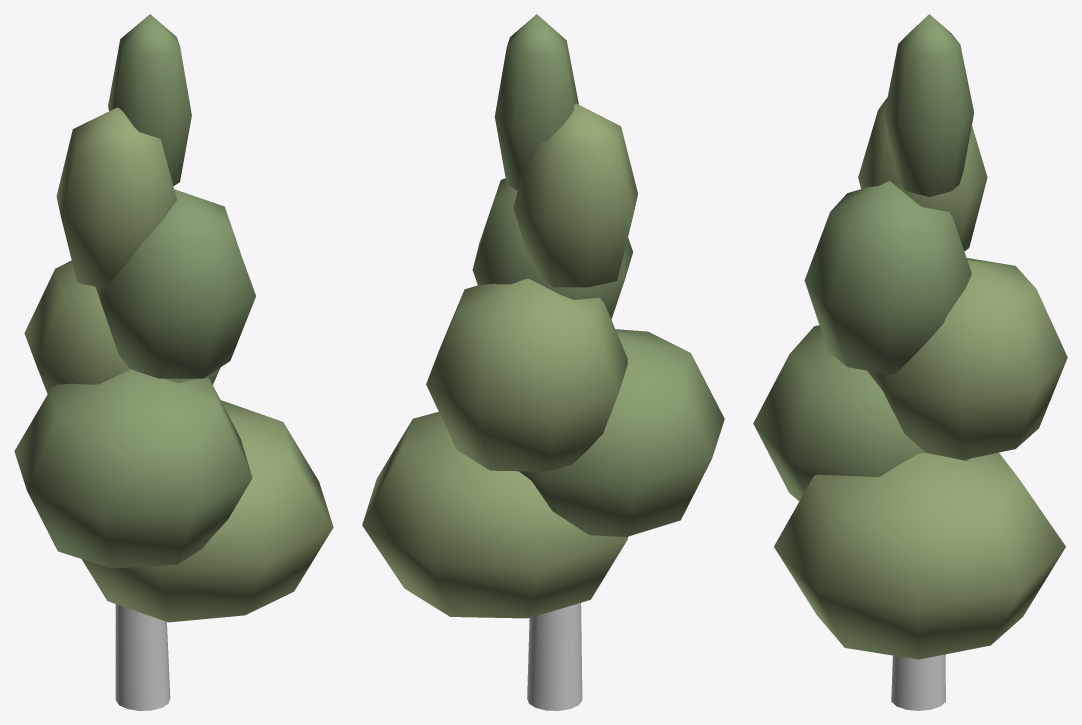
Rendered from pine_v1_near.gltf.
3 views of the same model, side by side, from view 1: azimuth 30°, elevation 25°; view 2: azimuth 150°, elevation 25°; view 3: azimuth 270°, elevation 25° (orthographic).
Visible parts, largest first — view 1: foliage, bark; view 2: foliage, bark; view 3: foliage, bark.
Part boxes in pixels (left/top/right/bottom): foliage: left=14, top=14, right=333, bottom=622; bark: left=115, top=604, right=170, bottom=710; foliage: left=362, top=14, right=724, bottom=618; bark: left=527, top=603, right=582, bottom=710; foliage: left=753, top=14, right=1067, bottom=659; bark: left=891, top=654, right=945, bottom=710.
Bounding box in the file's own units: 2.89 × 6.01 × 2.48.
